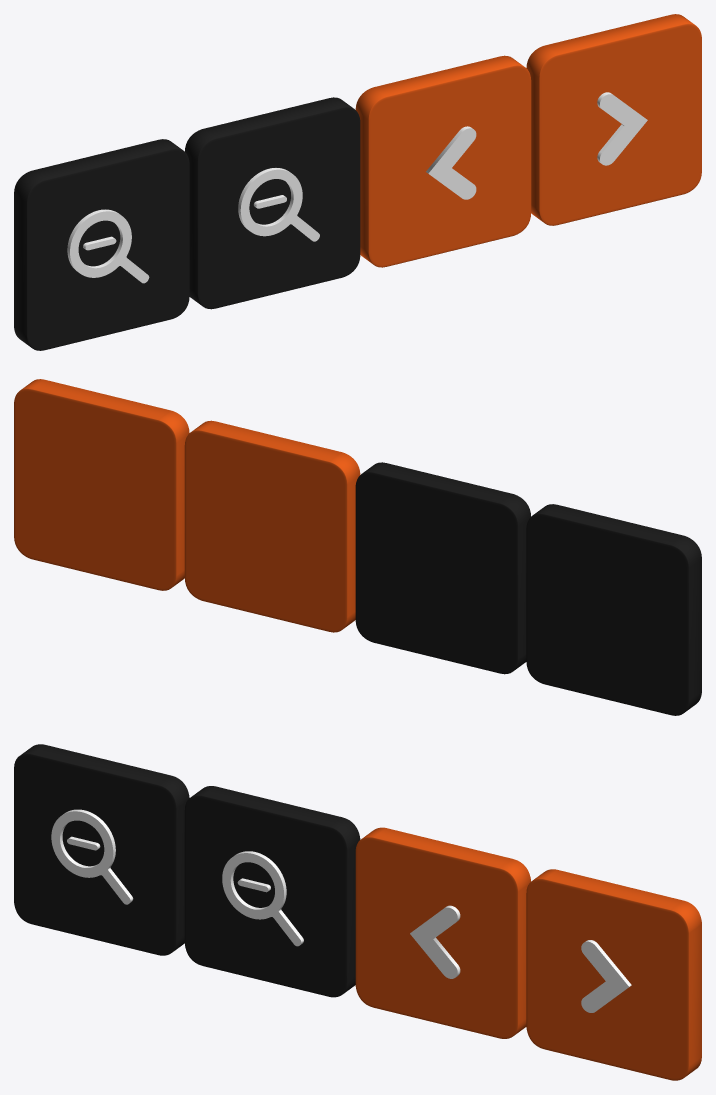
The model's file is SearchBar.fbx.
The picture shows the model from 3 angles, top to bottom: view 1: azimuth 30°, elevation 25°; view 2: azimuth 150°, elevation 25°; view 3: azimuth 330°, elevation 25°; orthographic projection.
Visible parts, largest first — view 1: Curve.058, Curve.059, Curve.056, Curve.057, Curve.003, Curve.002, Curve.009, Curve.010; view 2: Curve.056, Curve.057, Curve.058, Curve.059; view 3: Curve.059, Curve.058, Curve.057, Curve.056, Curve.003, Curve.002, Curve.009, Curve.010.
Boxes of the visible parts, box(x1,y1,x2,y2) form: Curve.058: box(355, 55, 531, 267); Curve.059: box(526, 14, 701, 225); Curve.056: box(14, 139, 189, 350); Curve.057: box(185, 97, 360, 309); Curve.003: box(238, 168, 319, 241); Curve.002: box(67, 209, 149, 283); Curve.009: box(426, 126, 476, 199); Curve.010: box(597, 92, 647, 165); Curve.056: box(526, 504, 701, 715); Curve.057: box(355, 462, 530, 674); Curve.058: box(184, 420, 360, 632); Curve.059: box(14, 379, 189, 590); Curve.059: box(526, 869, 701, 1080); Curve.058: box(355, 827, 530, 1038); Curve.057: box(184, 786, 360, 997); Curve.056: box(14, 744, 189, 955); Curve.003: box(222, 851, 303, 946); Curve.002: box(51, 809, 133, 904); Curve.009: box(410, 905, 460, 978); Curve.010: box(581, 940, 631, 1012).
Size of the model in its own units: 151 by 36.27 by 6.2.
